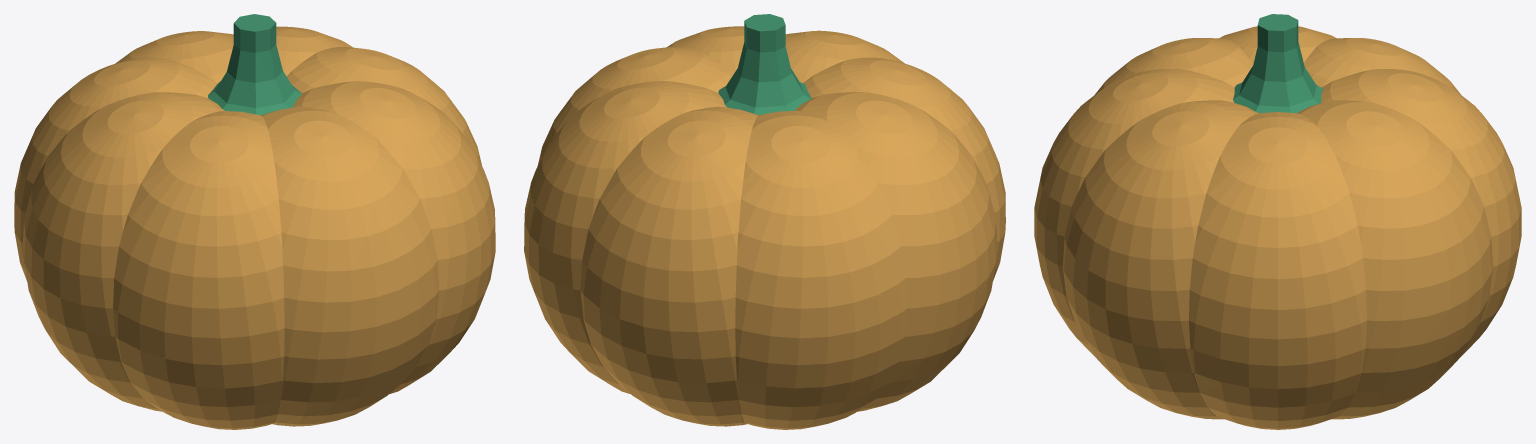
File: pumpkin_1.glb
The picture shows the model from 3 angles, left to right: view 1: azimuth 30°, elevation 25°; view 2: azimuth 150°, elevation 25°; view 3: azimuth 270°, elevation 25°; orthographic projection.
Visible parts, largest first — view 1: Mesh_Mesh_head_geo.001_lambert2SG.001; view 2: Mesh_Mesh_head_geo.001_lambert2SG.001; view 3: Mesh_Mesh_head_geo.001_lambert2SG.001.
Part boxes in pixels (<box>): Mesh_Mesh_head_geo.001_lambert2SG.001: <box>14,14,495,429</box>; Mesh_Mesh_head_geo.001_lambert2SG.001: <box>524,14,1005,429</box>; Mesh_Mesh_head_geo.001_lambert2SG.001: <box>1034,14,1521,429</box>.
Bounding box in the file's own units: 10 × 8 × 10.
